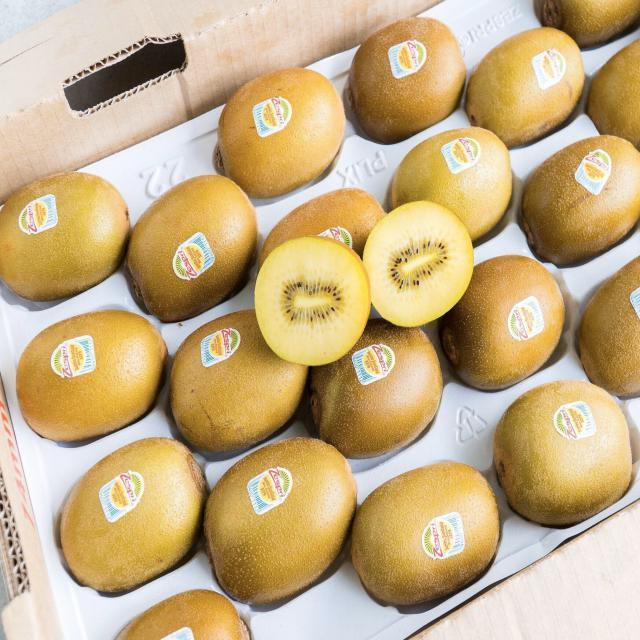kiwi: (205, 439, 360, 605), (61, 439, 208, 590), (355, 463, 502, 608), (173, 305, 311, 455), (496, 382, 634, 528), (18, 312, 171, 442), (128, 175, 261, 322), (441, 254, 567, 394), (1, 174, 130, 302), (218, 70, 345, 195), (260, 188, 388, 310), (523, 138, 640, 270), (393, 125, 515, 245), (351, 18, 468, 138), (468, 29, 588, 146), (580, 251, 640, 399), (117, 592, 258, 640), (589, 34, 640, 149)
